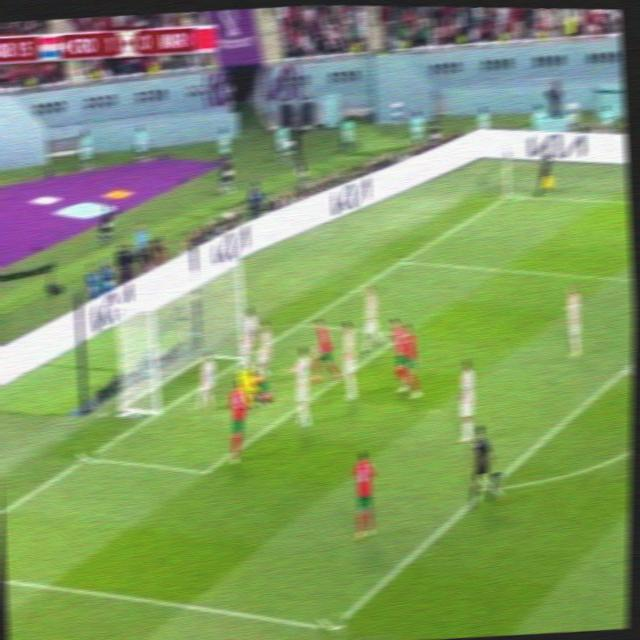bigarea_bottom_inner: (316, 610, 346, 640)
bigarea_top_outter: (392, 251, 412, 269)
bottom_arc_area_intersection: (476, 472, 504, 502)
corner: (499, 190, 518, 202)
smallarea_bottom_inner: (193, 455, 215, 485)
smallarea_bottom_outter: (75, 444, 98, 468)
smallarea_top_outter: (291, 314, 308, 332)
top_arc_area_intersection: (616, 359, 634, 376)
